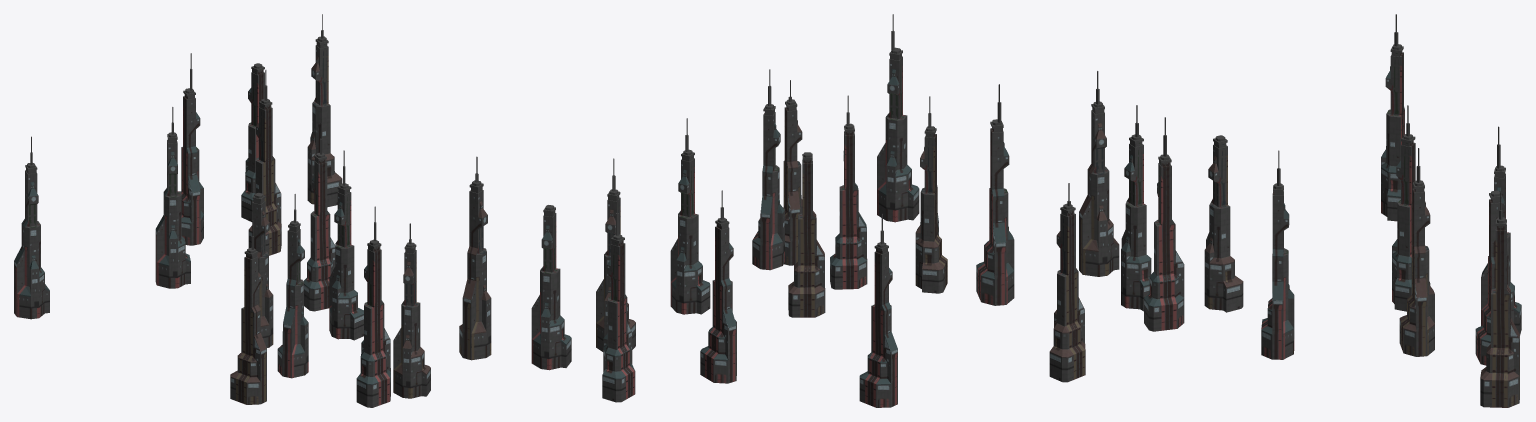
File: Backdrop_Far_B.fbx
3 views of the same model, side by side, from view 1: azimuth 30°, elevation 25°; view 2: azimuth 150°, elevation 25°; view 3: azimuth 270°, elevation 25° (orthographic). The views are drawn at different scales.
Parts seen in each view (by area): view 1: SM_ENV_AMVLLG02_Backdrop_Far_B.mo; view 2: SM_ENV_AMVLLG02_Backdrop_Far_B.mo; view 3: SM_ENV_AMVLLG02_Backdrop_Far_B.mo.
Part boxes in pixels (left/top/right/bottom): SM_ENV_AMVLLG02_Backdrop_Far_B.mo: left=14, top=14, right=430, bottom=407; SM_ENV_AMVLLG02_Backdrop_Far_B.mo: left=459, top=14, right=947, bottom=407; SM_ENV_AMVLLG02_Backdrop_Far_B.mo: left=976, top=14, right=1521, bottom=407.
Size of the model in its own units: 24085 by 14162 by 27732.
